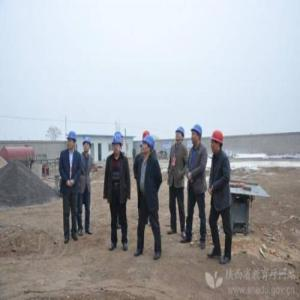blue: (143, 133, 156, 157), (191, 122, 203, 148), (67, 131, 79, 151), (112, 134, 123, 155), (176, 127, 186, 145), (82, 138, 92, 154)
red: (211, 129, 225, 154)
